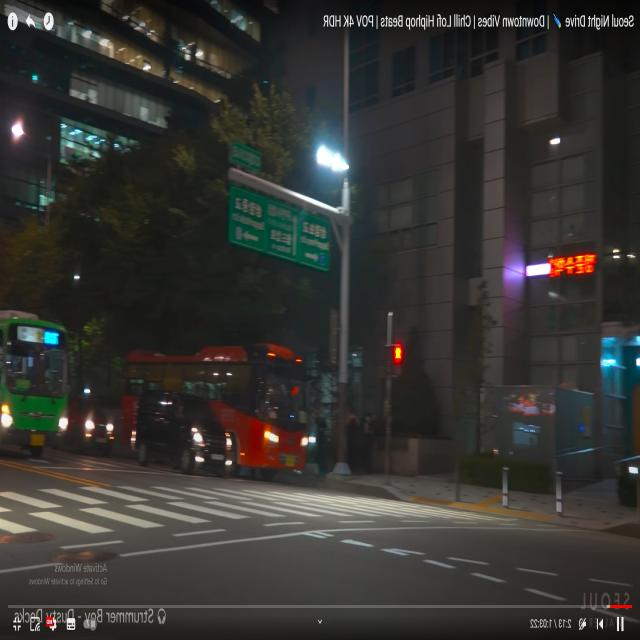headlights: (0, 405, 71, 447), (187, 427, 238, 470), (259, 423, 309, 460), (80, 407, 121, 447)
